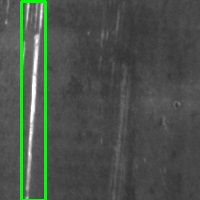scratches: (21, 1, 45, 200)
